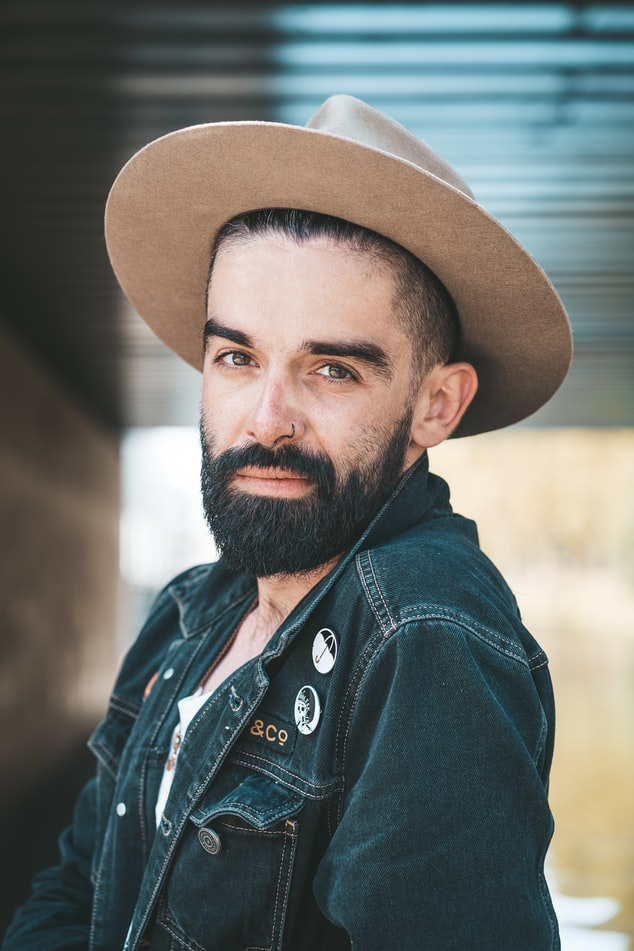beard: (189, 423, 402, 578)
